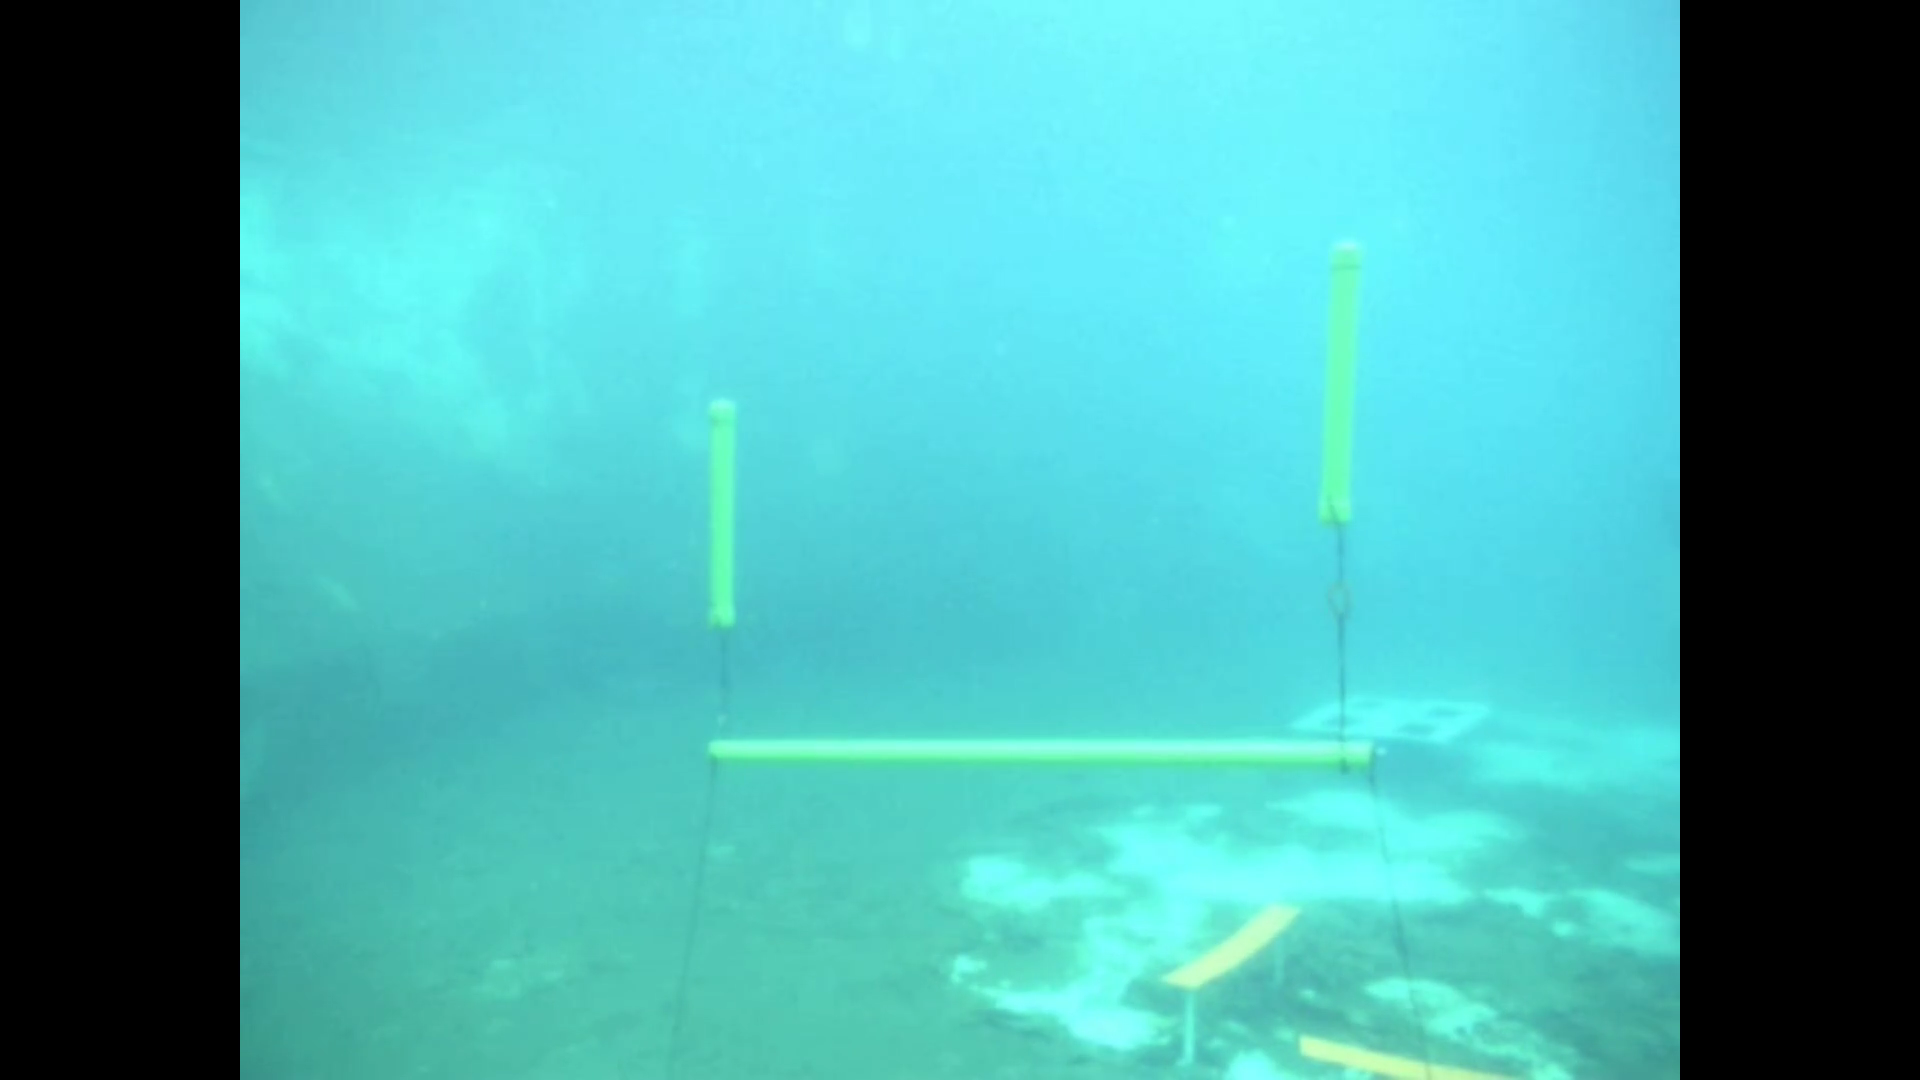gate: (703, 232, 1371, 796)
